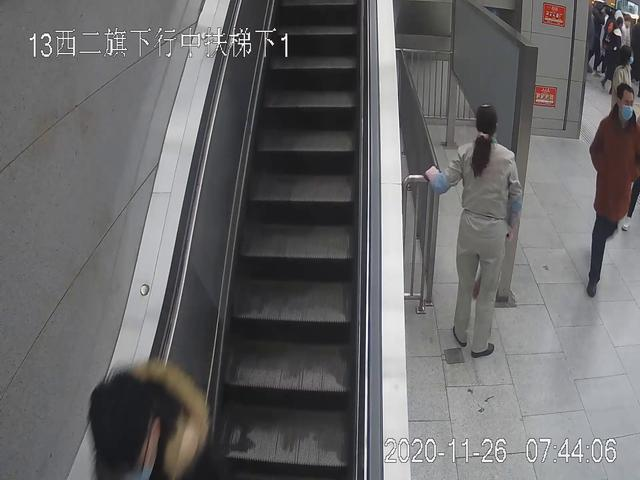person: (426, 103, 524, 359), (589, 85, 640, 301)
